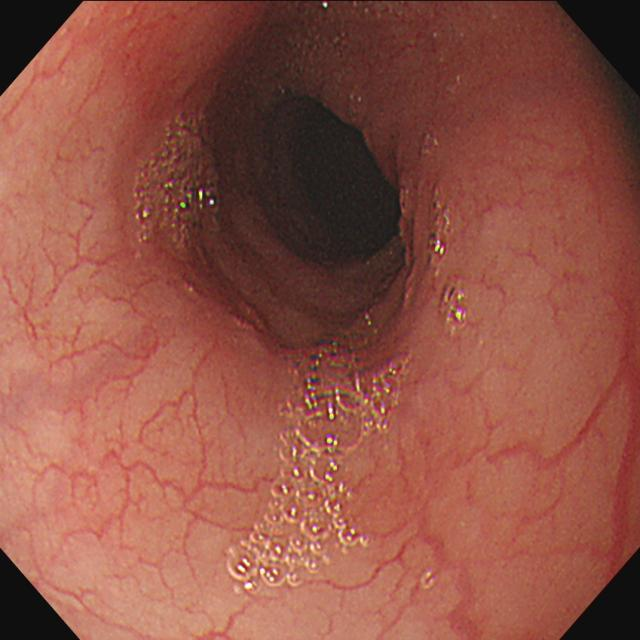E: (253, 94, 401, 274)
T: (225, 316, 410, 597), (132, 105, 223, 262), (428, 183, 471, 337)
